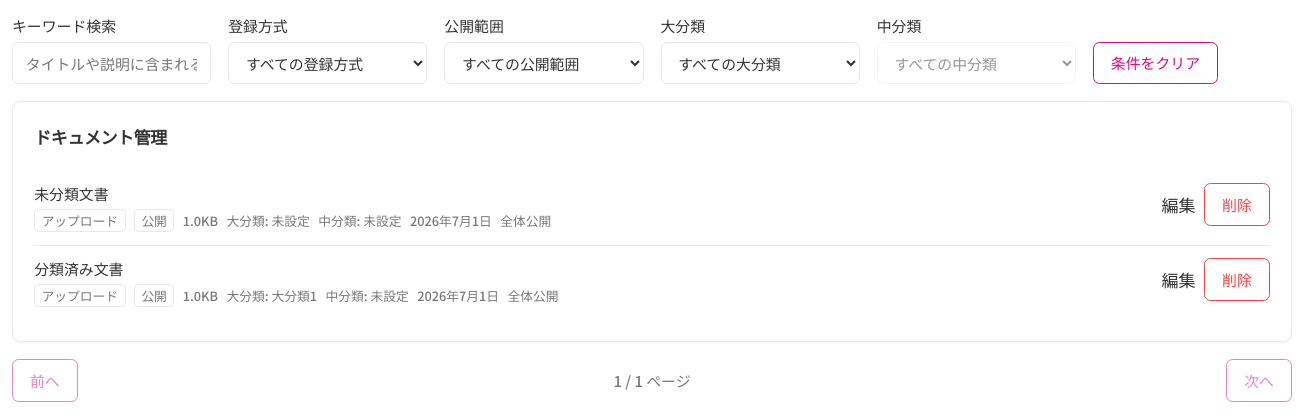
DocumentManagementListClient › 大分類・中分類の絞り込み › 「未設定」でカテゴリ未割当のドキュメントのみを抽出する
The width and height of the screenshot is (1304, 419).
Select "未設定" in the dropdown labelled "大分類" at coordinates (760, 63), box [660, 42, 860, 84]
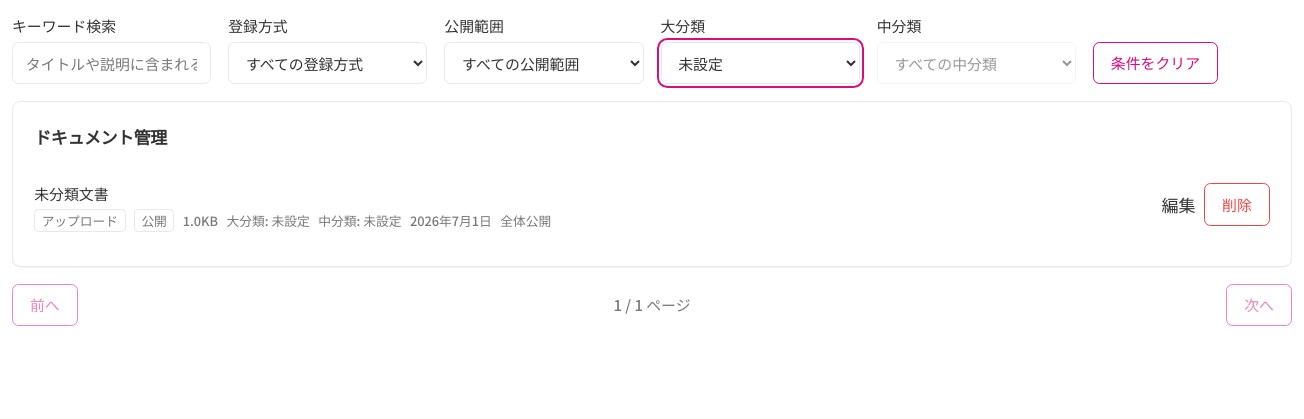
Expected: the text "未分類文書" is shown, [34, 183, 109, 204]
Expected: the text "分類済み文書" is gone
